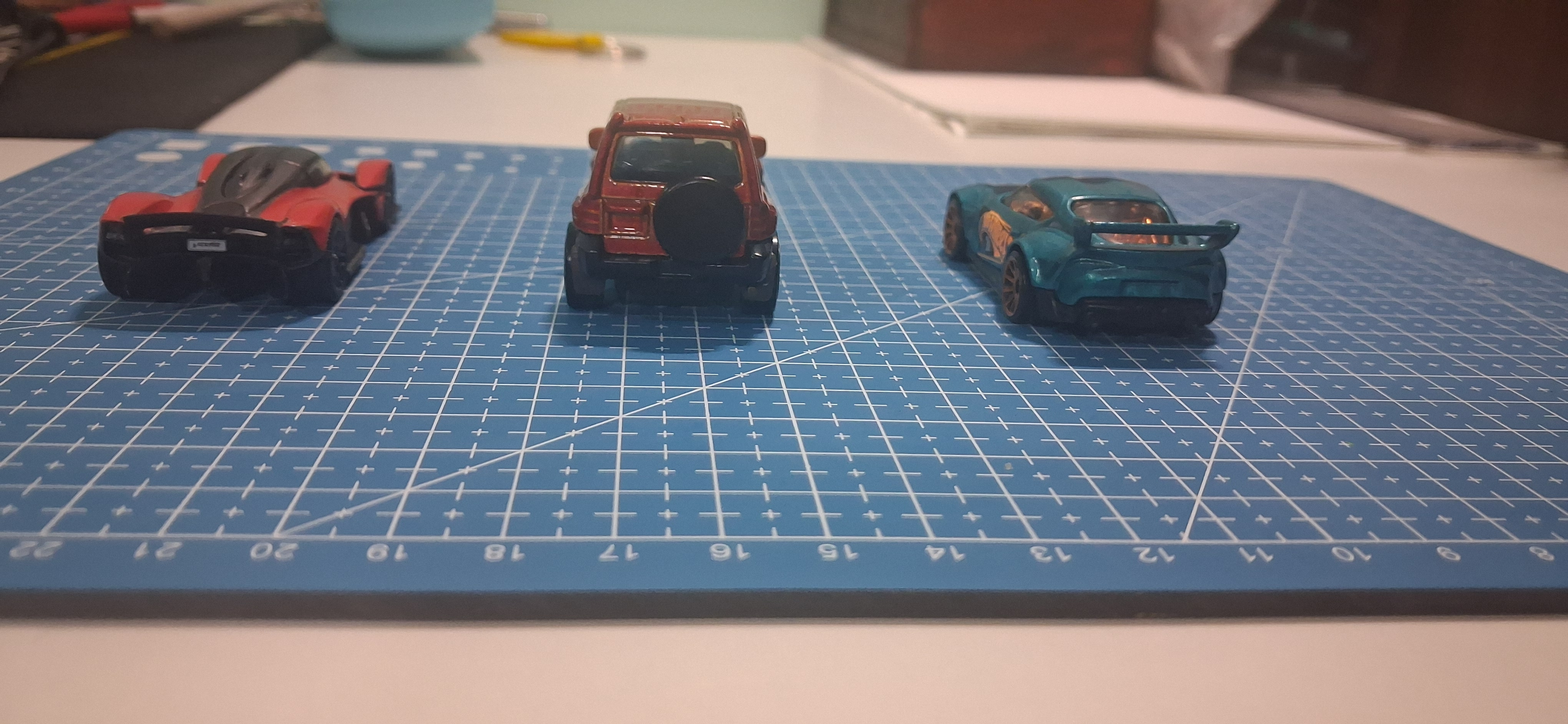Aston_Martin_Valkyrie: (84, 100, 431, 378)
Mitsubishi_Pajero_Evolution: (515, 88, 847, 349)
Toyota_GR_Supra: (914, 155, 1274, 375)
